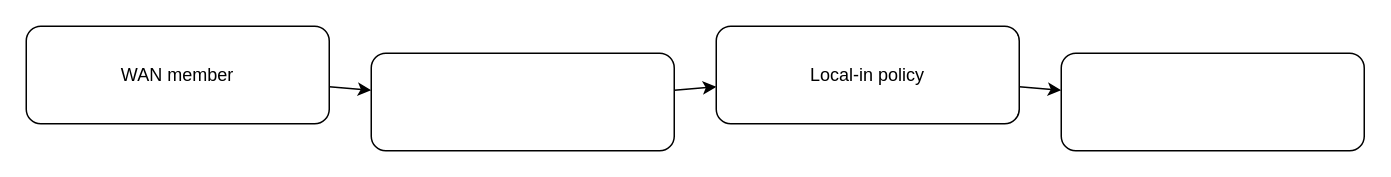
Some shapes in this 1391 by 177 pixel diagram are drawn without their labels. Each missing label, with the centre of its shape:
Admin packet: pixel 1212 101
SD-WAN zone: pixel 522 101
